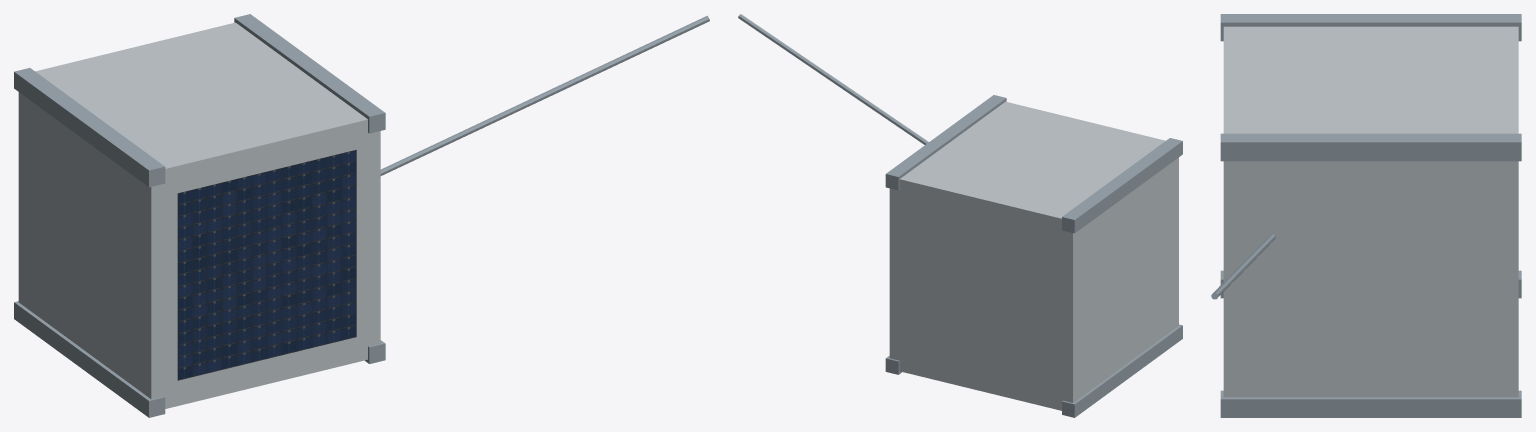
Rendered from ref-cubesat-1u-66909.glb.
3 views of the same model, side by side, from view 1: azimuth 30°, elevation 25°; view 2: azimuth 150°, elevation 25°; view 3: azimuth 270°, elevation 25° (orthographic). The views are drawn at different scales.
Parts seen in each view (by area): view 1: Spacecraft body, Body-mounted cells, Dispenser rail (×3), Antenna boom; view 2: Spacecraft body, Dispenser rail (×3), Antenna boom; view 3: Spacecraft body, Dispenser rail (×3), Antenna boom.
Part boxes in pixels (x1,y1,x2,y2): Spacecraft body: (18, 22, 380, 408); Body-mounted cells: (177, 150, 356, 380); Dispenser rail (×3): (14, 14, 385, 417); Antenna boom: (380, 15, 709, 175); Spacecraft body: (889, 101, 1178, 410); Dispenser rail (×3): (885, 95, 1182, 417); Antenna boom: (738, 14, 928, 144); Spacecraft body: (1223, 26, 1518, 397); Dispenser rail (×3): (1220, 14, 1521, 417); Antenna boom: (1211, 234, 1275, 299).
Bounding box in the file's own units: 0.243 × 0.1117 × 0.1051.
3 materials, 1 textured.
